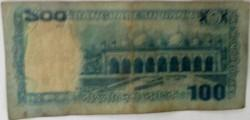100 taka: (1, 2, 244, 107)
